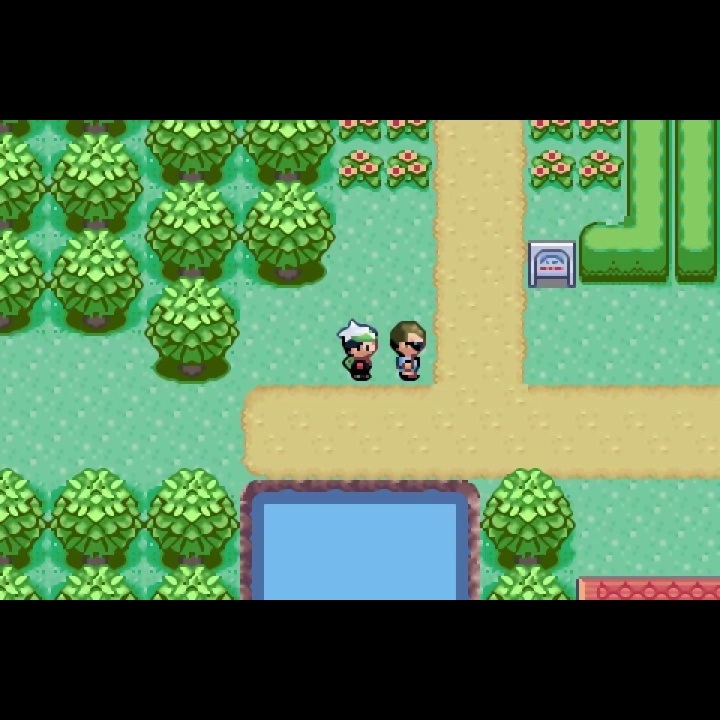npc: (336, 316, 381, 385), (386, 318, 429, 383)
wall: (48, 227, 145, 338), (144, 275, 241, 385), (242, 179, 336, 290), (478, 465, 578, 564), (145, 467, 241, 564), (48, 468, 145, 564), (48, 132, 145, 227), (145, 180, 240, 275), (145, 121, 242, 181), (240, 121, 336, 181), (1, 227, 48, 337), (1, 466, 48, 565), (1, 133, 48, 228), (50, 561, 148, 600), (146, 562, 240, 600), (480, 564, 578, 600), (50, 121, 144, 142), (1, 562, 48, 599), (1, 120, 50, 142)
